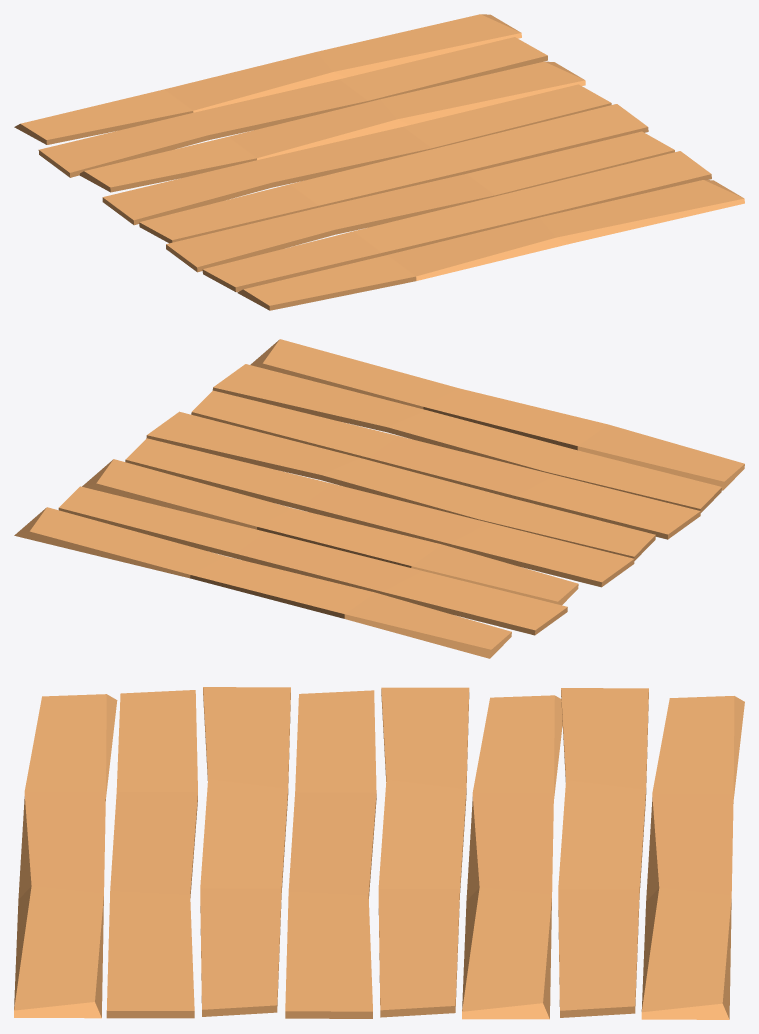
The model's file is island tree pet platform.fbx.
3 views of the same model, one above another, from view 1: azimuth 30°, elevation 25°; view 2: azimuth 150°, elevation 25°; view 3: azimuth 270°, elevation 25° (orthographic). The views are drawn at different scales.
Parts seen in each view (by area): view 1: Platform_1_1; view 2: Platform_1_1; view 3: Platform_1_1.
Part boxes in pixels (x1,y1,x2,y2): Platform_1_1: (14, 14, 744, 310); Platform_1_1: (14, 339, 744, 658); Platform_1_1: (14, 687, 744, 1019).
Size of the model in its own units: 30.04 by 0.5009 by 28.3.
